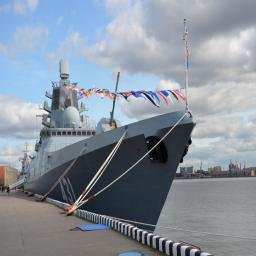Fragata: (26, 58, 199, 250)
